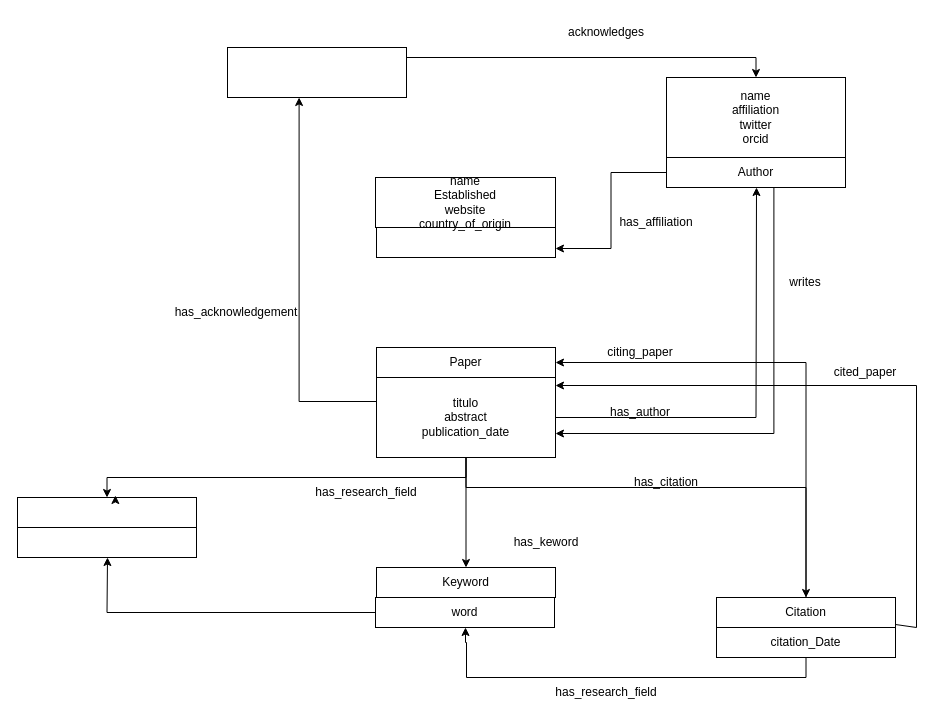
Some shapes in this 942 by 724 pixel diagram are drawn without their labels. Here are the shapes that lost their labels. From the top down, the centre of each, then its label:
At point 316,72: "Acknowledgement".
At point 466,242: "Affiliation".
At point 106,512: "Research_field".
At point 106,542: "field_name".
